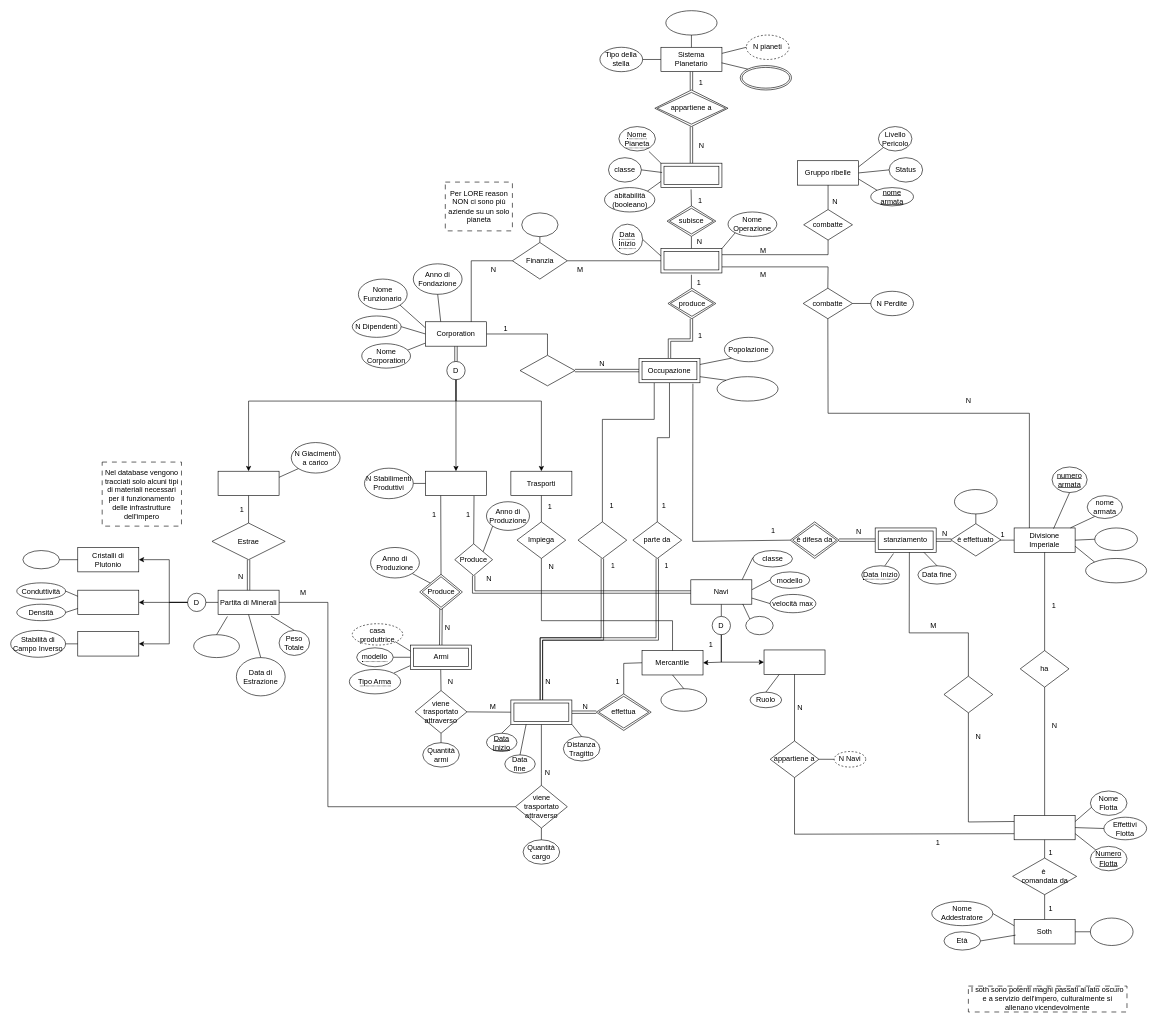
This 1158x1023 diagram has some shape labels left out. Here are the shapes that lost their labels. From the top down, the centre of each, then its label:
pixel 691 22: Nome Stella Principale
pixel 765 77: Coordinate stellari
pixel 691 175: Pianeta
pixel 539 224: valore contributo
pixel 691 260: Guerra di Conquista
pixel 547 370: si insedia
pixel 747 388: Anno di Conquista
pixel 248 483: Mineraria
pixel 455 483: Bellica
pixel 975 501: N occupanti
pixel 40 559: Purezza
pixel 602 539: arriva a
pixel 1115 539: Effettivi
pixel 1116 570: Specializzazione
pixel 108 602: Ferro Titanico
pixel 108 643: Nanosabbia di Dune Profonde
pixel 759 625: nome nave
pixel 216 646: Etichetta partita
pixel 794 661: Da Combattimento
pixel 541 711: Viaggio
pixel 683 699: Capacità di carico max
pixel 968 694: è presidiato
pixel 1044 827: flotta
pixel 1111 931: ID chip cibernetico
